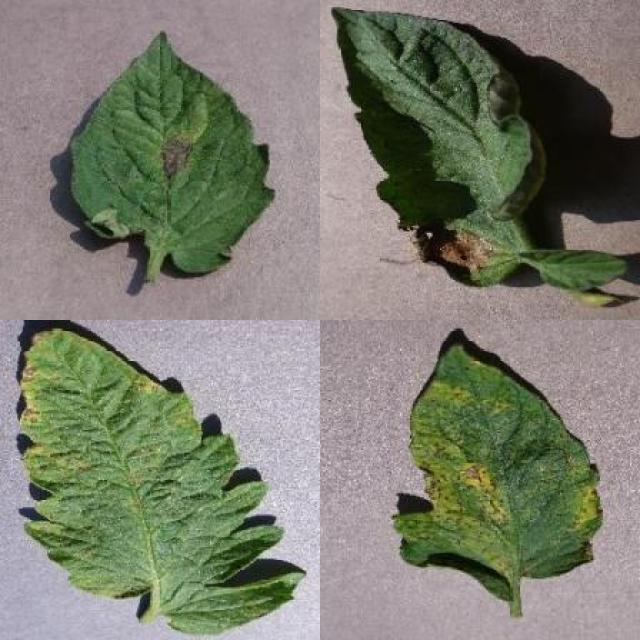Late Blight: (329, 7, 547, 300), (68, 32, 276, 274)
Septoria: (17, 328, 306, 638), (388, 340, 602, 603)
